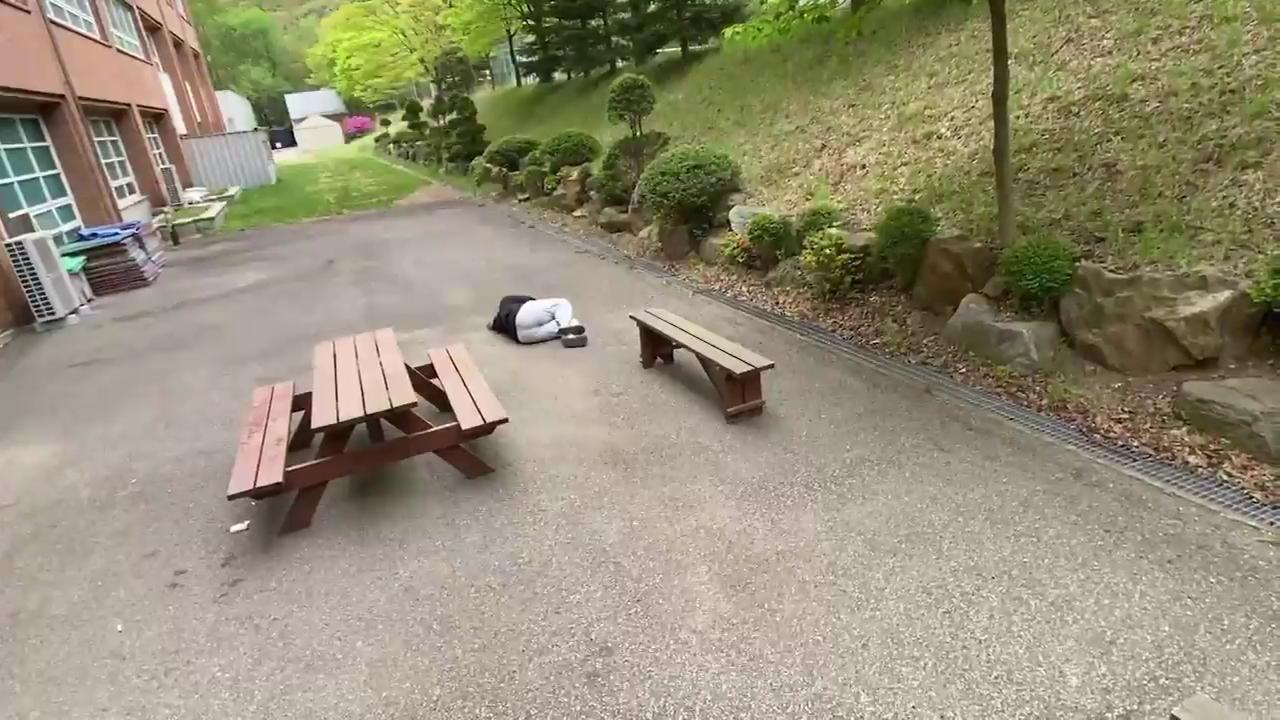faint: (483, 291, 590, 348)
